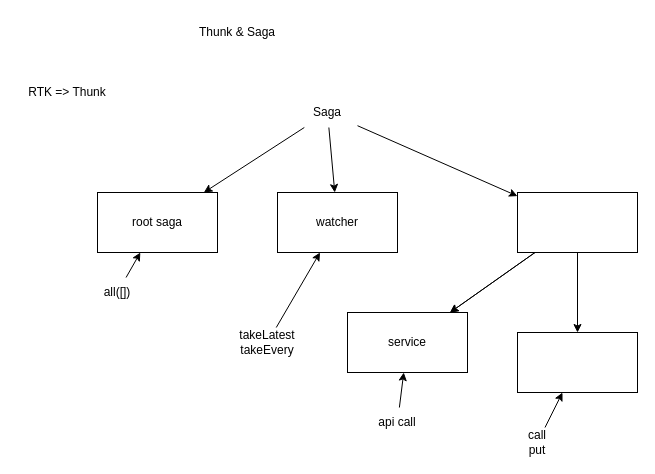
The diagram is 655 pixels wide and 474 high, and some of its shapes have lost their labels. The shapes that lost their labels are listed below. From the top down, each one's centre as x and y in pixels, then its label:
At point (577, 222): "Worker".
At point (577, 362): "handler".
